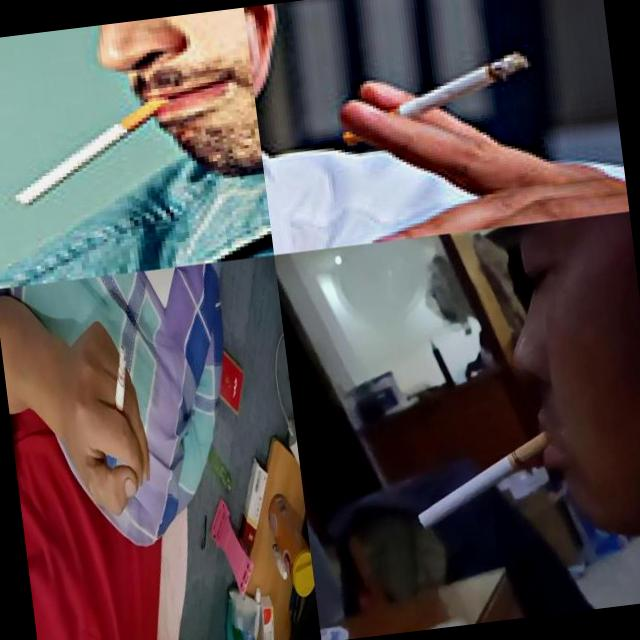cigarette: (2, 90, 180, 207), (407, 432, 559, 532), (390, 42, 539, 116), (107, 344, 135, 432)
